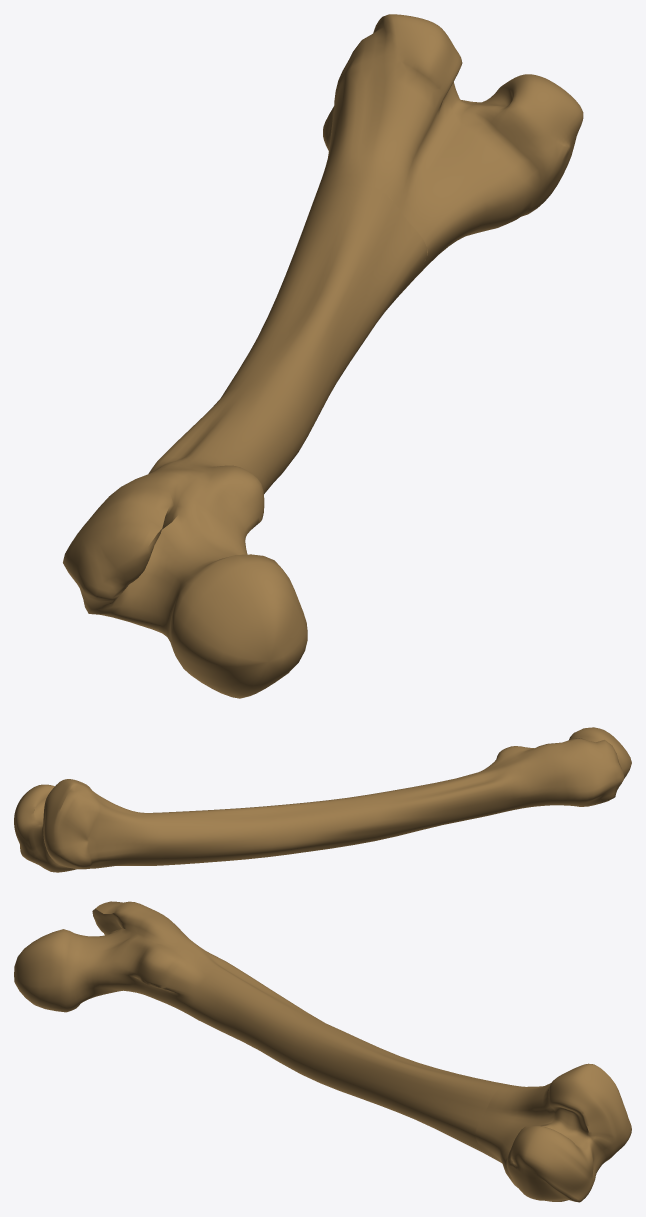
Rendered from FEMUR.obj.
The picture shows the model from 3 angles, top to bottom: view 1: azimuth 30°, elevation 25°; view 2: azimuth 150°, elevation 25°; view 3: azimuth 270°, elevation 25°; orthographic projection. The views are drawn at different scales.
Parts seen in each view (by area): view 1: FEMUR; view 2: FEMUR; view 3: FEMUR.
Part boxes in pixels (<box>): FEMUR: <box>63,14,583,698</box>; FEMUR: <box>14,727,631,872</box>; FEMUR: <box>14,901,631,1202</box>.
Size of the model in its own units: 520 by 117 by 547.
